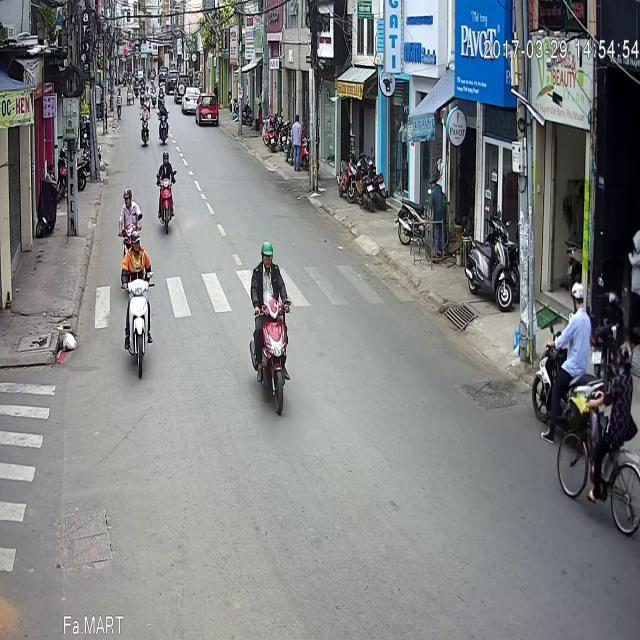bicycle: (557, 282, 640, 479)
car: (194, 34, 218, 68)
motorcycle: (531, 223, 605, 387), (248, 182, 291, 358), (121, 171, 155, 321), (155, 91, 177, 176), (117, 128, 143, 197), (156, 39, 170, 88), (138, 44, 150, 89)
